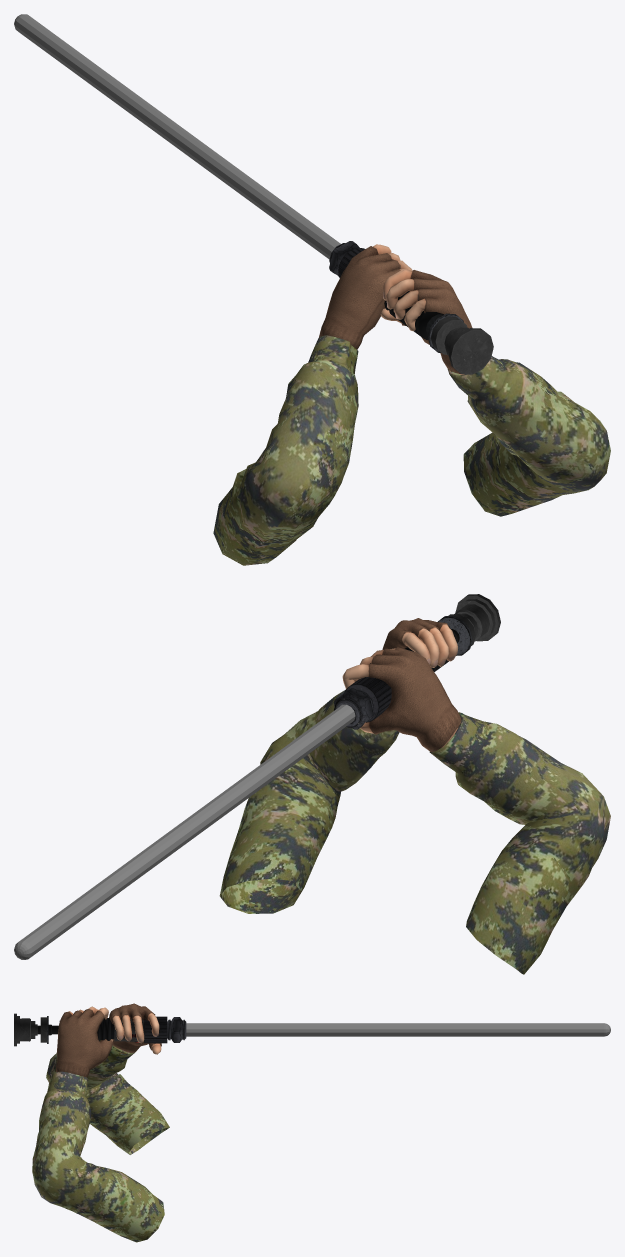
File: hands-lightsaber-2.fbx
The picture shows the model from 3 angles, top to bottom: view 1: azimuth 30°, elevation 25°; view 2: azimuth 150°, elevation 25°; view 3: azimuth 270°, elevation 25°; orthographic projection. The views are drawn at different scales.
Visible parts, largest first — view 1: FPS_Hands_V1, energy, handle; view 2: FPS_Hands_V1, energy, handle; view 3: FPS_Hands_V1, energy, handle.
Boxes of the visible parts, bbox=[...] form: FPS_Hands_V1: bbox=[213, 244, 610, 565]; energy: bbox=[14, 14, 340, 259]; handle: bbox=[329, 241, 493, 374]; FPS_Hands_V1: bbox=[219, 618, 610, 974]; energy: bbox=[14, 704, 355, 959]; handle: bbox=[334, 594, 500, 729]; FPS_Hands_V1: bbox=[32, 1003, 169, 1242]; energy: bbox=[186, 1023, 610, 1036]; handle: bbox=[14, 1013, 186, 1046].
Bounding box in the file's own units: 15.4 × 12.61 × 35.7.
